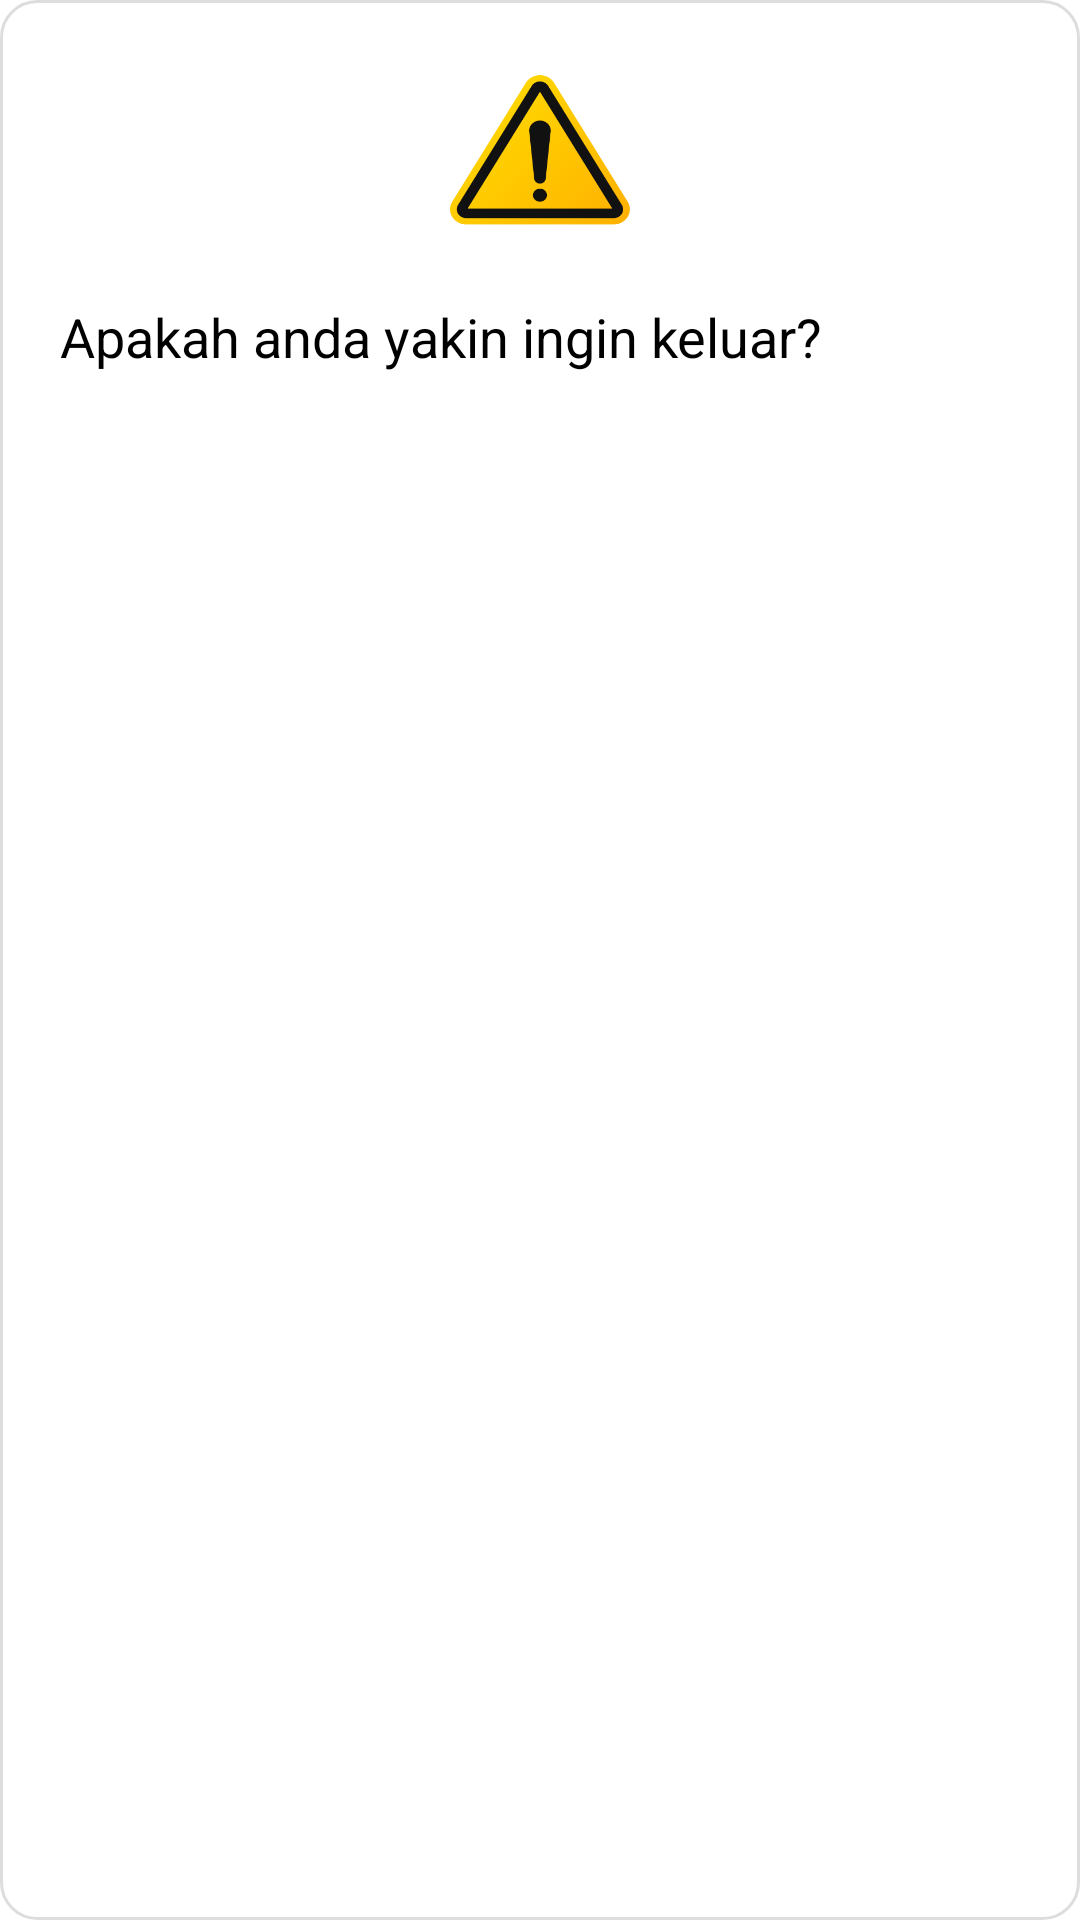

Where icons sit on this 1080px x 1920px app screen, as (x1, y1, x2, y2):
warning: (450, 75, 630, 225)
